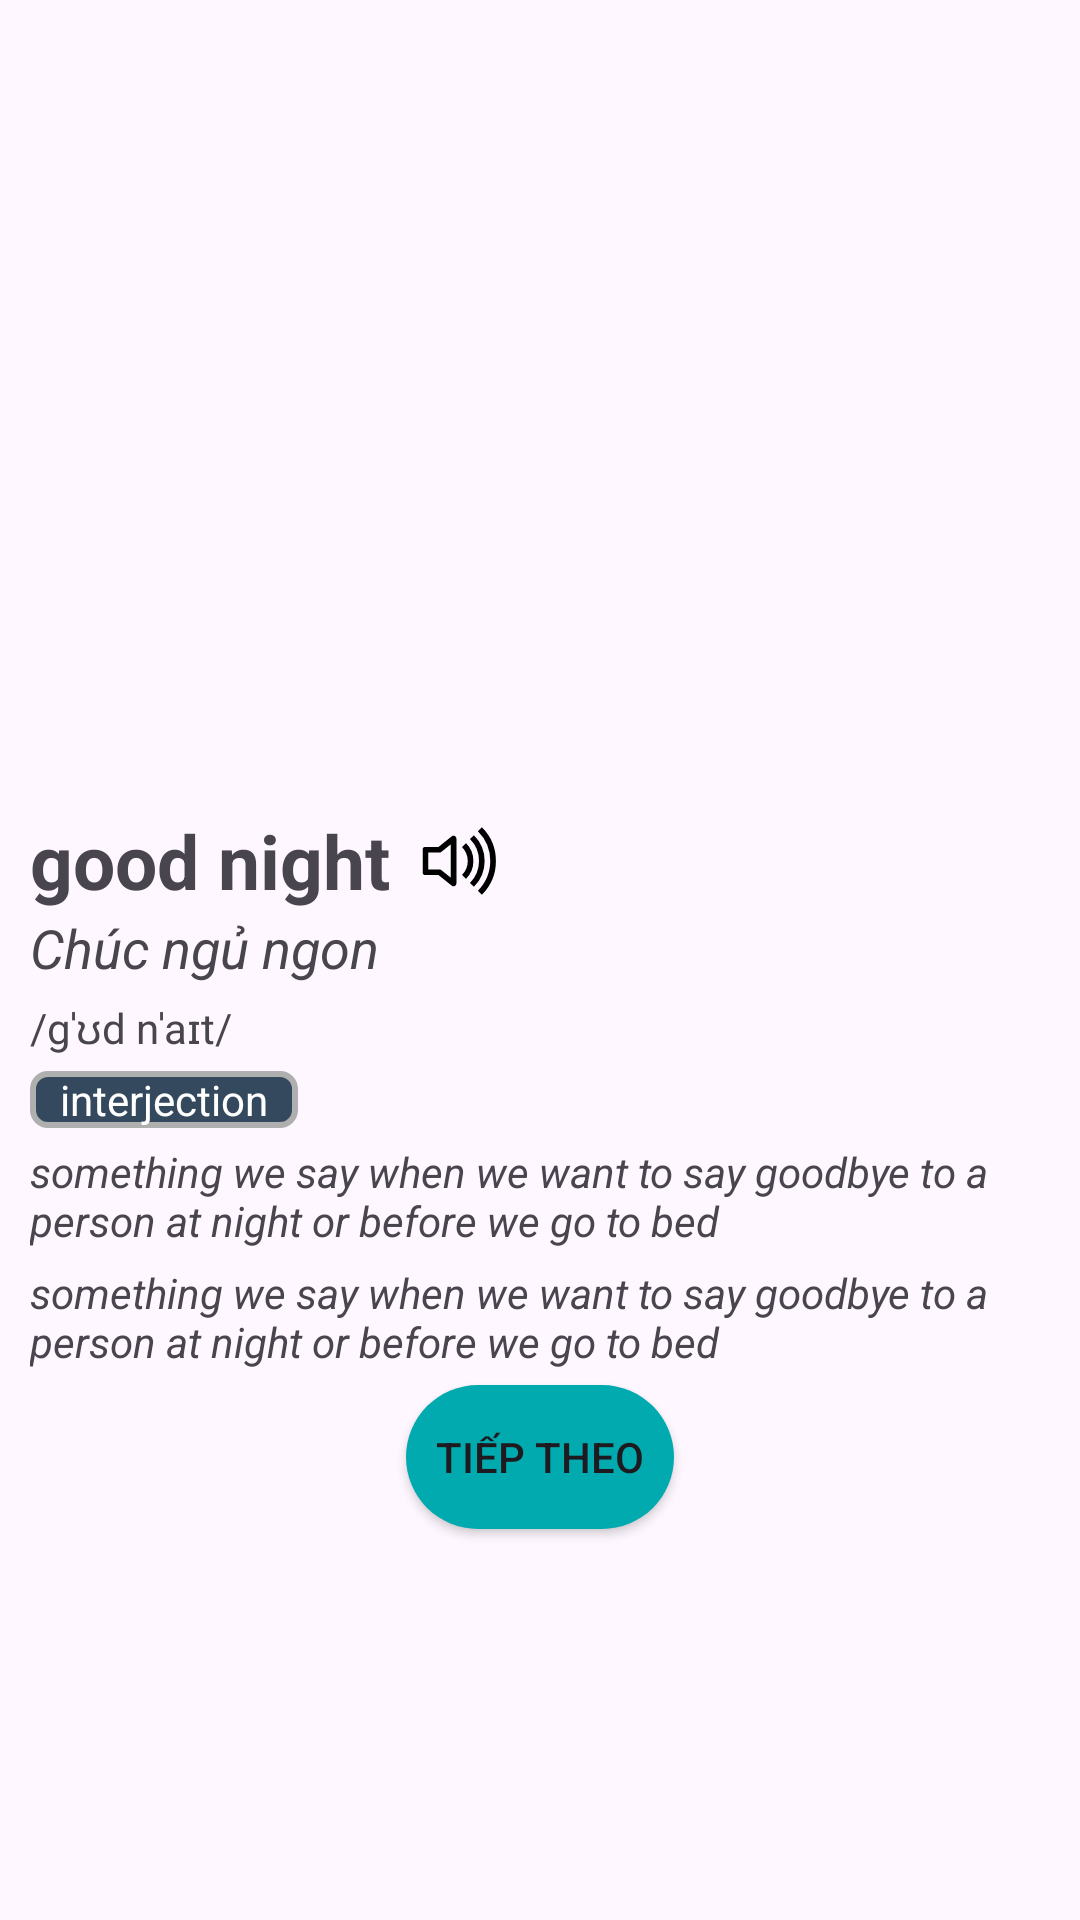

Named icons in this screenshot (1080 x 1920) and their centers, (x=x, y=y):
speaker: (x=459, y=861)
